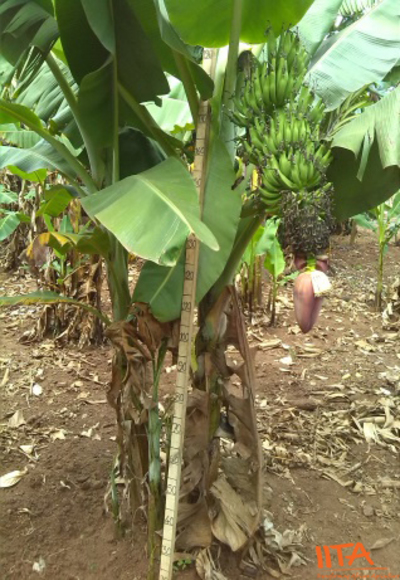bananaHand: (219, 20, 336, 208)
